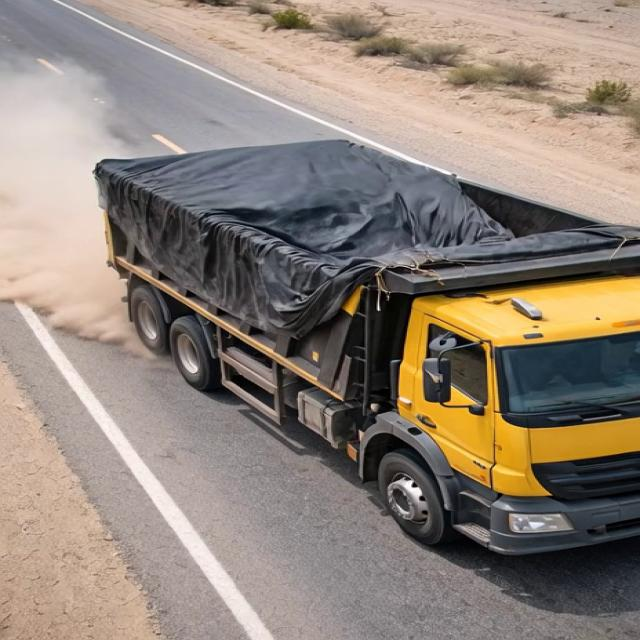trailer: (103, 136, 629, 252)
truck: (59, 111, 640, 555)
